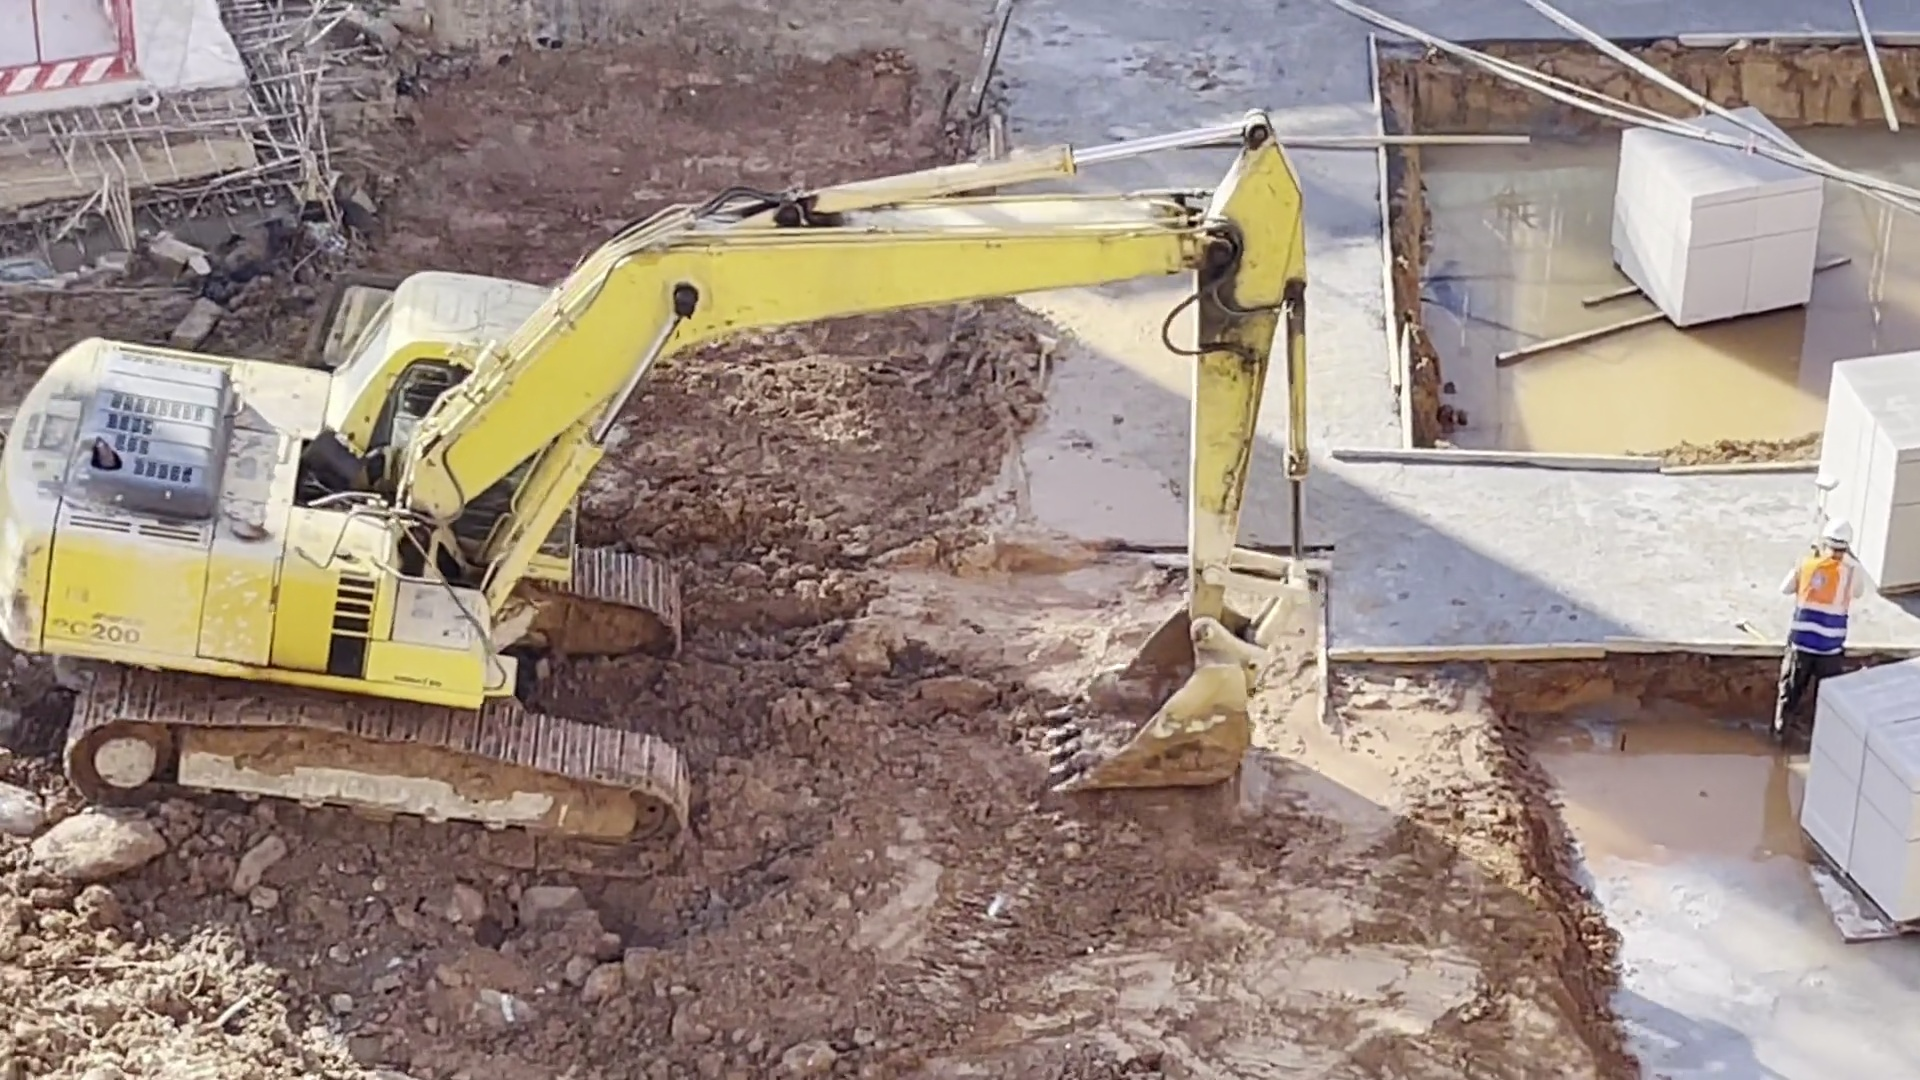brick: (1599, 96, 1828, 343), (1791, 652, 1920, 934), (1814, 339, 1920, 588)
helmet: (1821, 518, 1851, 554)
person: (1772, 518, 1860, 746)
vest: (1788, 561, 1853, 656)
